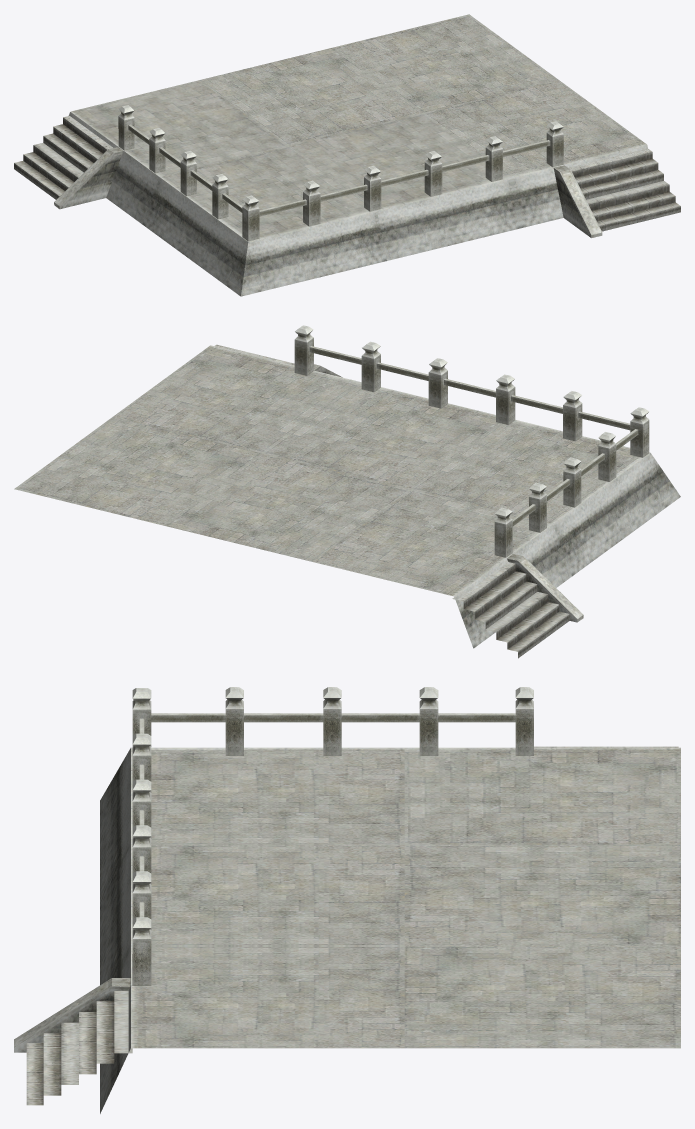
File: snow_tower01_01.fbx
3 views of the same model, one above another, from view 1: azimuth 30°, elevation 25°; view 2: azimuth 150°, elevation 25°; view 3: azimuth 270°, elevation 25° (orthographic). The views are drawn at different scales.
Parts seen in each view (by area): view 1: snow_tower02_04; view 2: snow_tower02_04; view 3: snow_tower02_04.
Boxes of the visible parts, bbox=[...] form: snow_tower02_04: bbox=[14, 14, 680, 296]; snow_tower02_04: bbox=[14, 325, 680, 658]; snow_tower02_04: bbox=[14, 687, 680, 1113].
Bounding box in the file's own units: 42.51 × 7.32 × 34.34.
